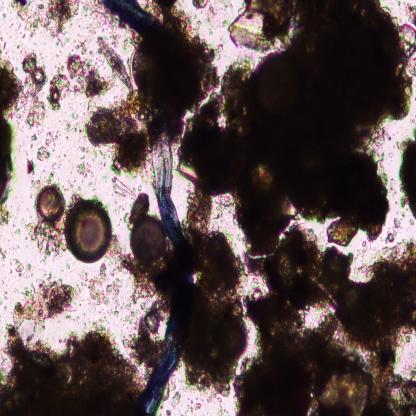Background material: (178, 0, 416, 247), (233, 219, 416, 415), (171, 195, 249, 399), (0, 323, 139, 415), (132, 1, 219, 145), (85, 98, 152, 175), (110, 238, 170, 310), (0, 57, 25, 226), (5, 274, 76, 332), (48, 47, 106, 112), (123, 309, 169, 370), (12, 0, 80, 38), (22, 51, 48, 126), (24, 221, 66, 266), (401, 128, 416, 221), (89, 264, 122, 306), (63, 113, 88, 156), (124, 192, 151, 228), (84, 0, 101, 41), (36, 130, 58, 161), (69, 156, 93, 184), (72, 35, 96, 58), (13, 257, 36, 278), (24, 158, 36, 178), (169, 390, 181, 408), (192, 0, 210, 10), (0, 247, 8, 260), (29, 132, 38, 142)
Cotton: (102, 0, 193, 415)
Diatom: (66, 199, 112, 263), (129, 216, 166, 262), (99, 39, 131, 89), (36, 184, 66, 224), (111, 178, 136, 198)
